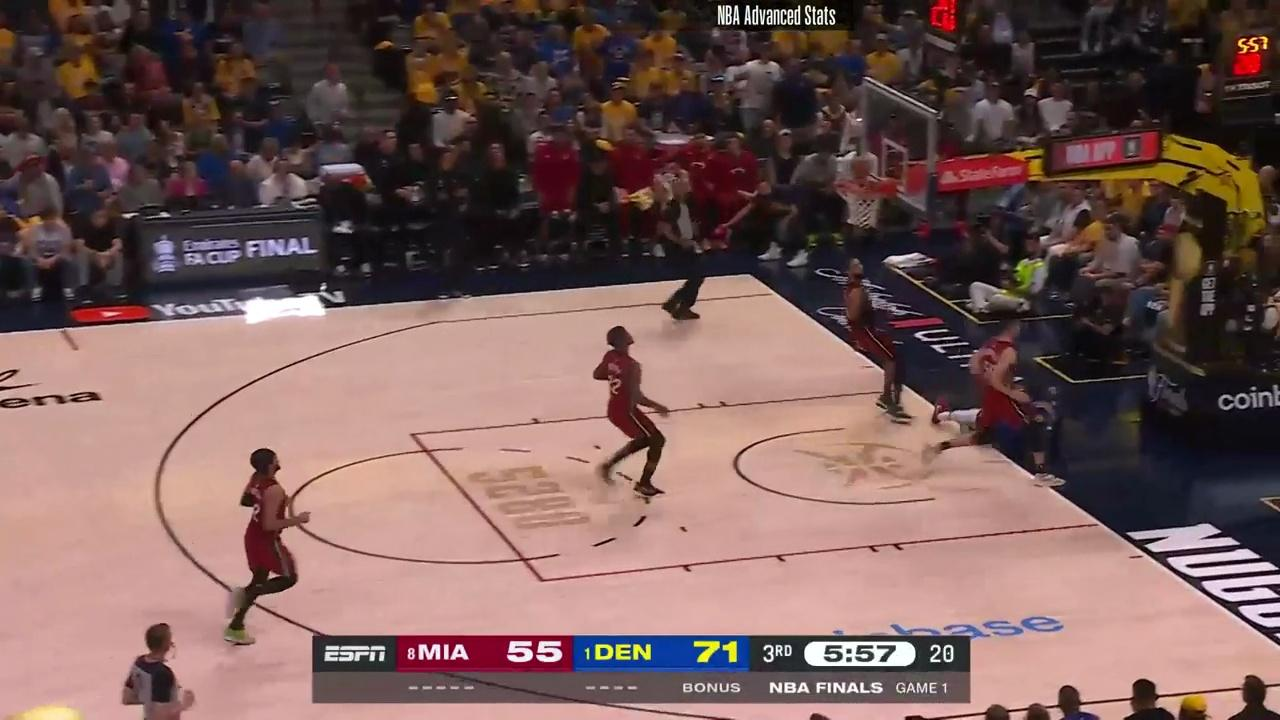Backboard: (865, 84, 932, 206)
Ball: (849, 157, 870, 179)
Basket: (837, 174, 889, 226)
Person: (221, 443, 313, 656), (960, 317, 1064, 491), (587, 324, 675, 505), (840, 257, 931, 423), (923, 382, 1067, 460)
Referee: (654, 167, 714, 331), (116, 622, 195, 720)
Shot Clock: (1212, 25, 1280, 126), (919, 1, 964, 66)
